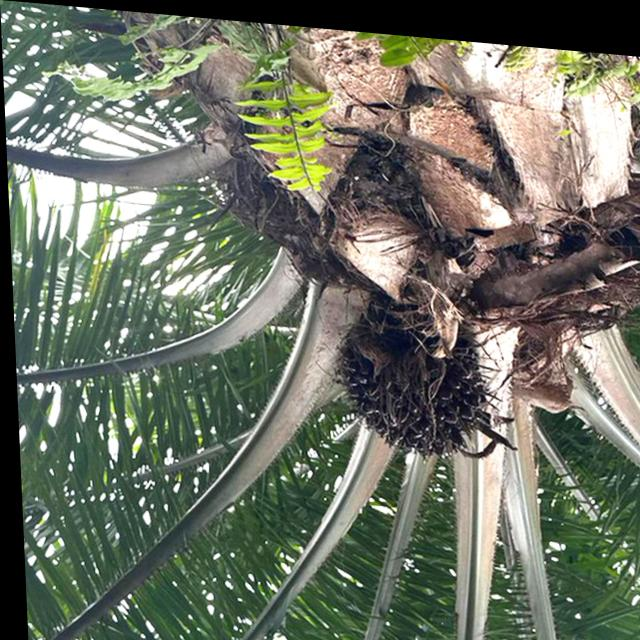almost: (326, 304, 489, 459)
